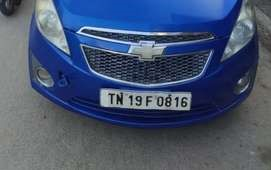TN19F0816: (99, 88, 191, 110)
